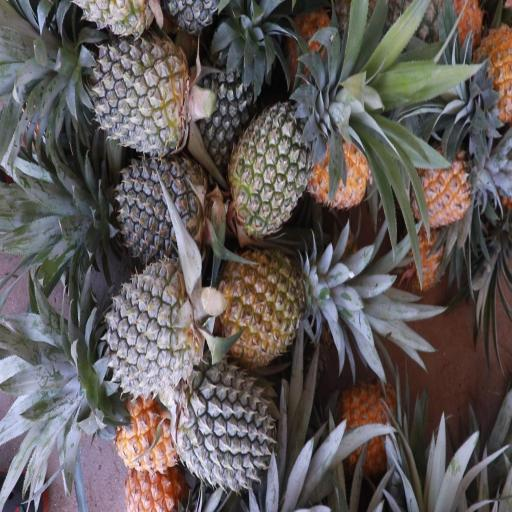------------------------------: (228, 105, 328, 229), (217, 245, 309, 358)
Pineapple - v8 v1: (104, 379, 177, 470), (309, 120, 373, 206), (336, 386, 392, 484), (416, 140, 477, 225), (471, 16, 512, 124)
